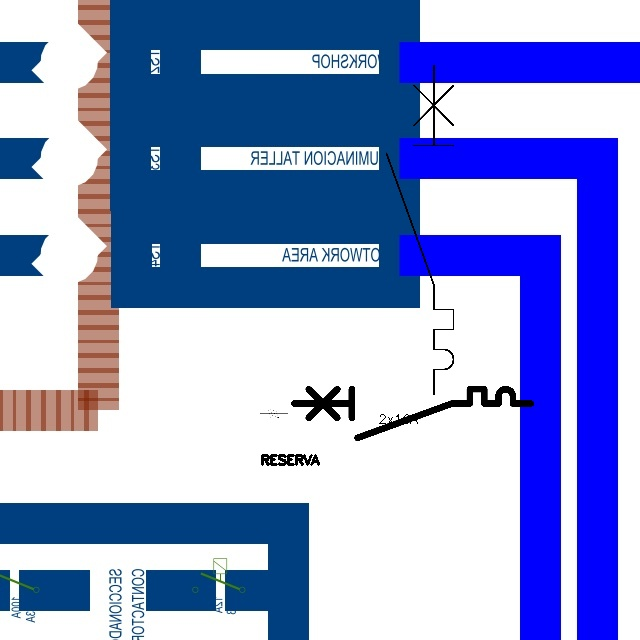interruptor_termomagnetico: (378, 57, 462, 403), (288, 383, 537, 444)
